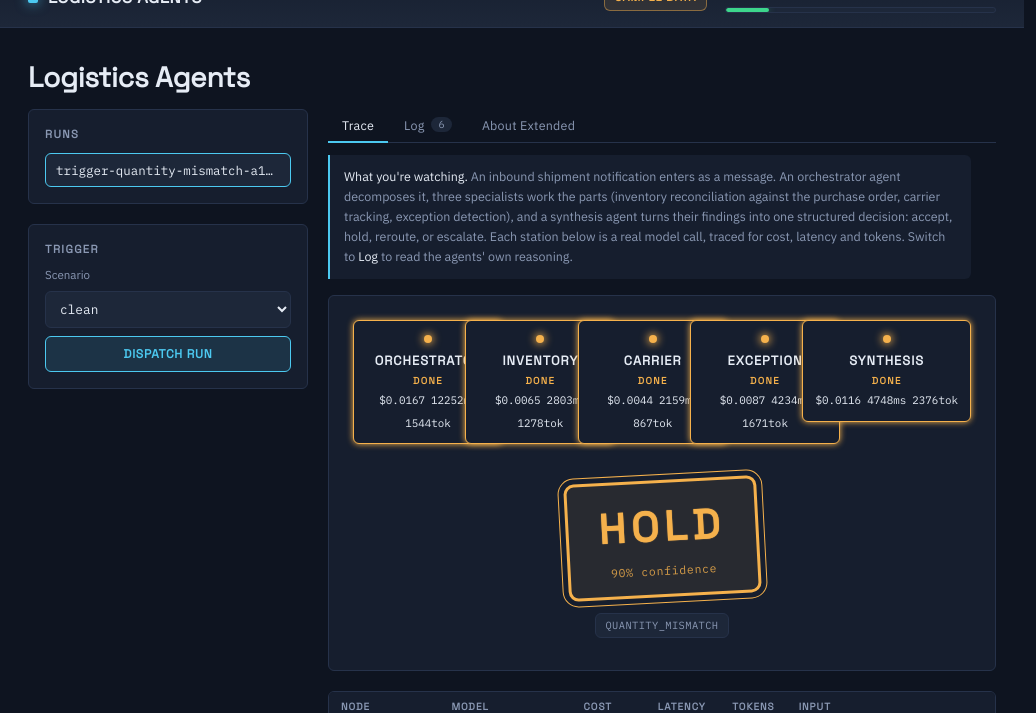
Test: App › keeps the accumulated log when switching tabs away and back
This screenshot has width=1036, height=713.
Click the tab "Log 6": (428, 126) x1=390 y1=109 x2=466 y2=143
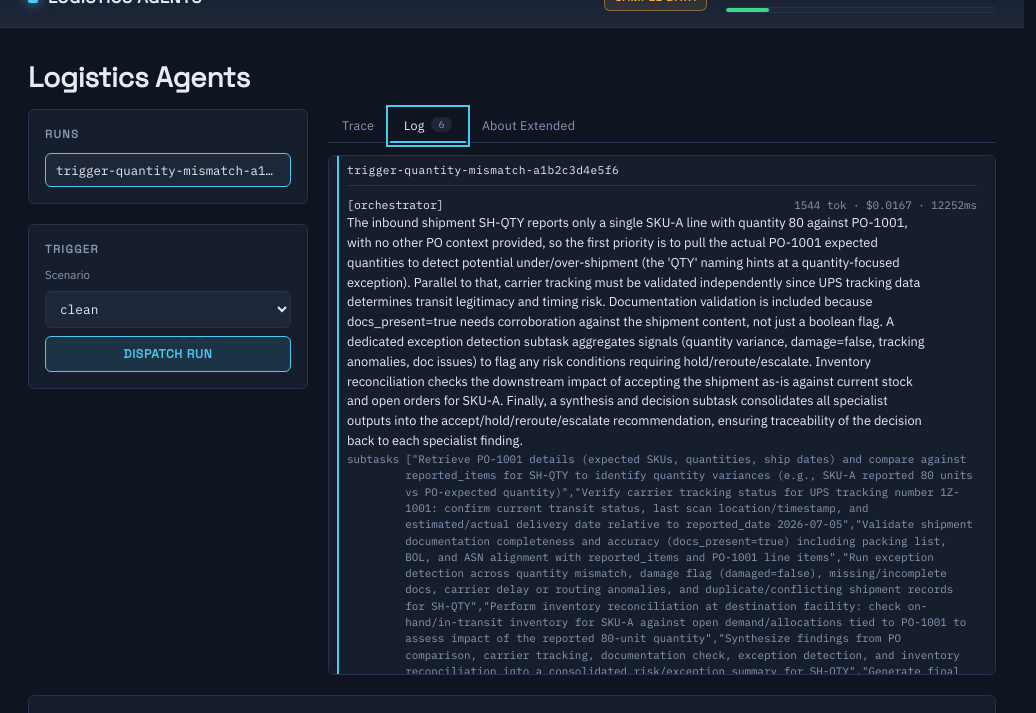
Check: the panel shows "orchestrator", box x1=354 y1=197 x2=437 y2=212
Click the tab "Trace": (358, 126) x1=328 y1=109 x2=388 y2=143
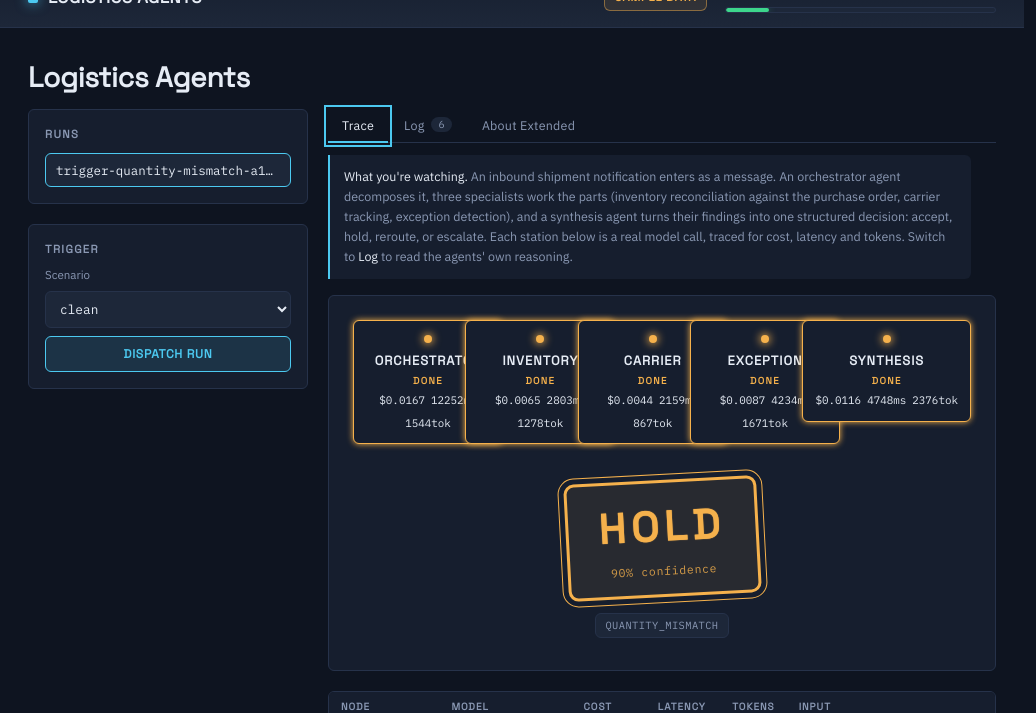
Click the tab "Log 6": (428, 126) x1=390 y1=109 x2=466 y2=143
(page scrolled)
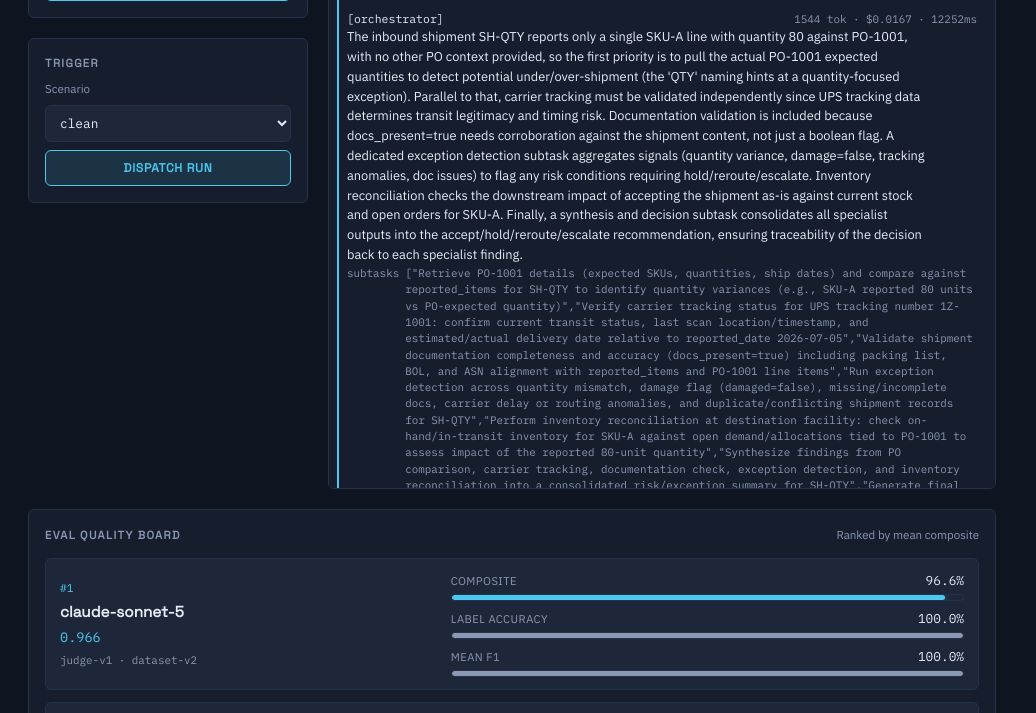
Check: the panel shows "orchestrator", box x1=354 y1=11 x2=437 y2=26
